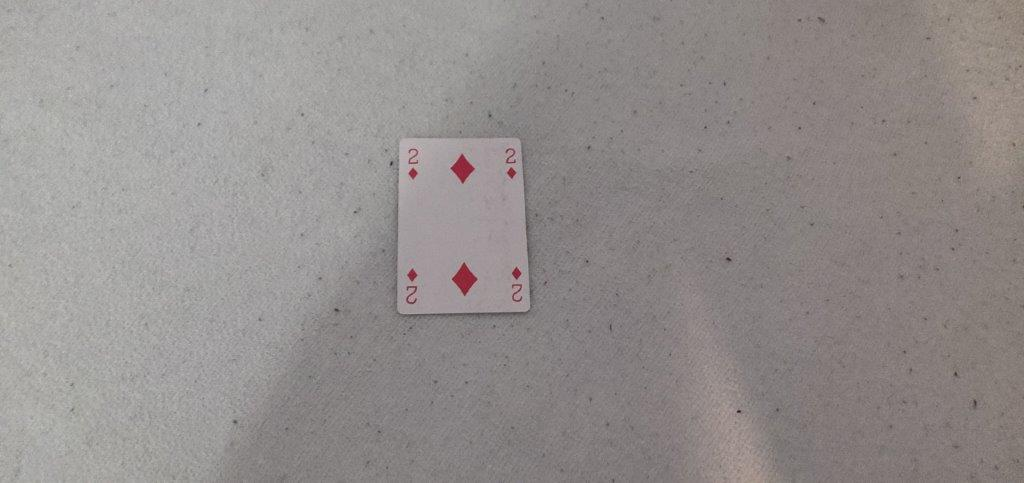2D: (500, 144, 520, 182), (404, 146, 423, 181)
